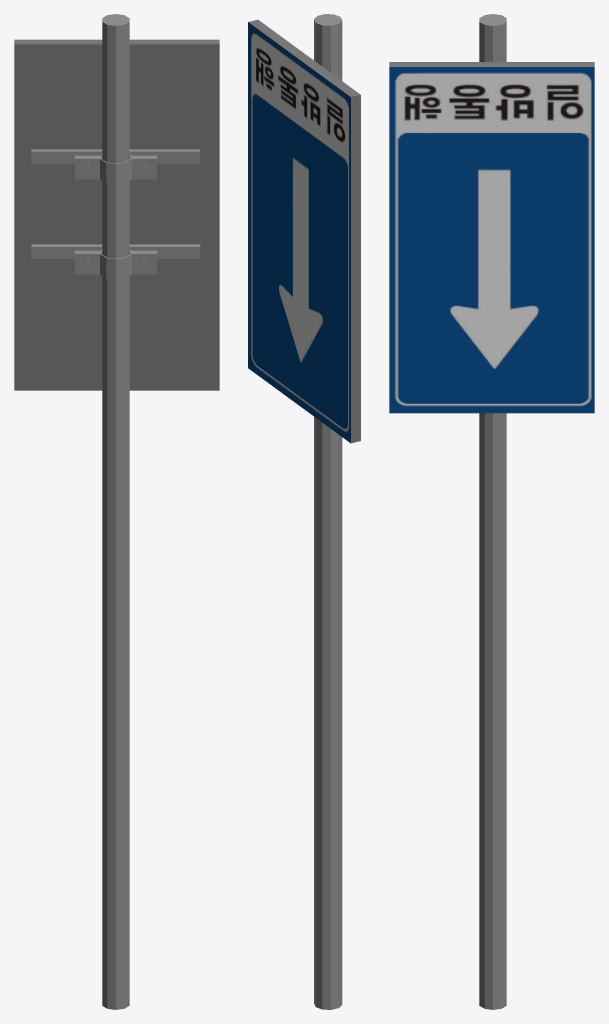
Rendered from obj_sign_4.fbx.
The picture shows the model from 3 angles, left to right: view 1: azimuth 90°, elevation 25°; view 2: azimuth 210°, elevation 25°; view 3: azimuth 270°, elevation 25°; orthographic projection.
Parts seen in each view (by area): view 1: obj_sign_4; view 2: obj_sign_4; view 3: obj_sign_4.
Part boxes in pixels (left/top/right/bottom): obj_sign_4: left=14, top=14, right=219, bottom=1009; obj_sign_4: left=248, top=14, right=360, bottom=1009; obj_sign_4: left=389, top=14, right=594, bottom=1009.
Size of the model in its own units: 0.1073 by 2.39 by 0.4519.
Materials: 1 (1 with a texture image).
